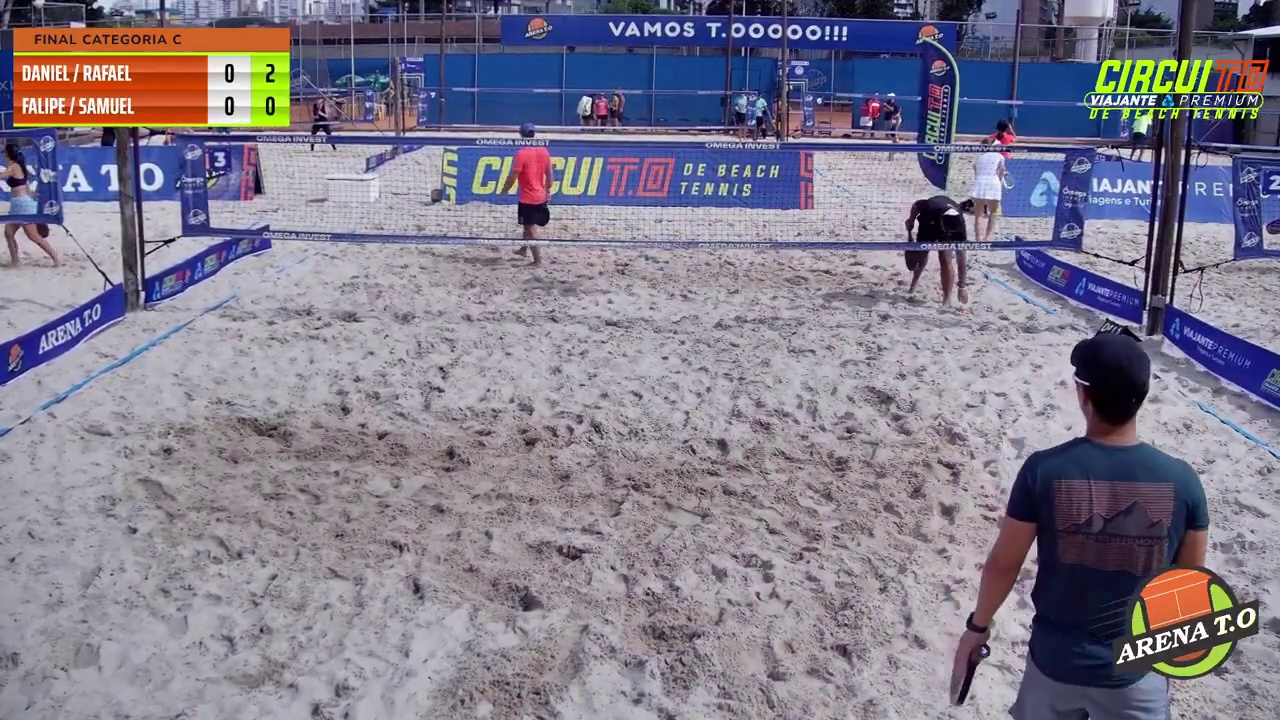court_line: (641, 0, 804, 304)
